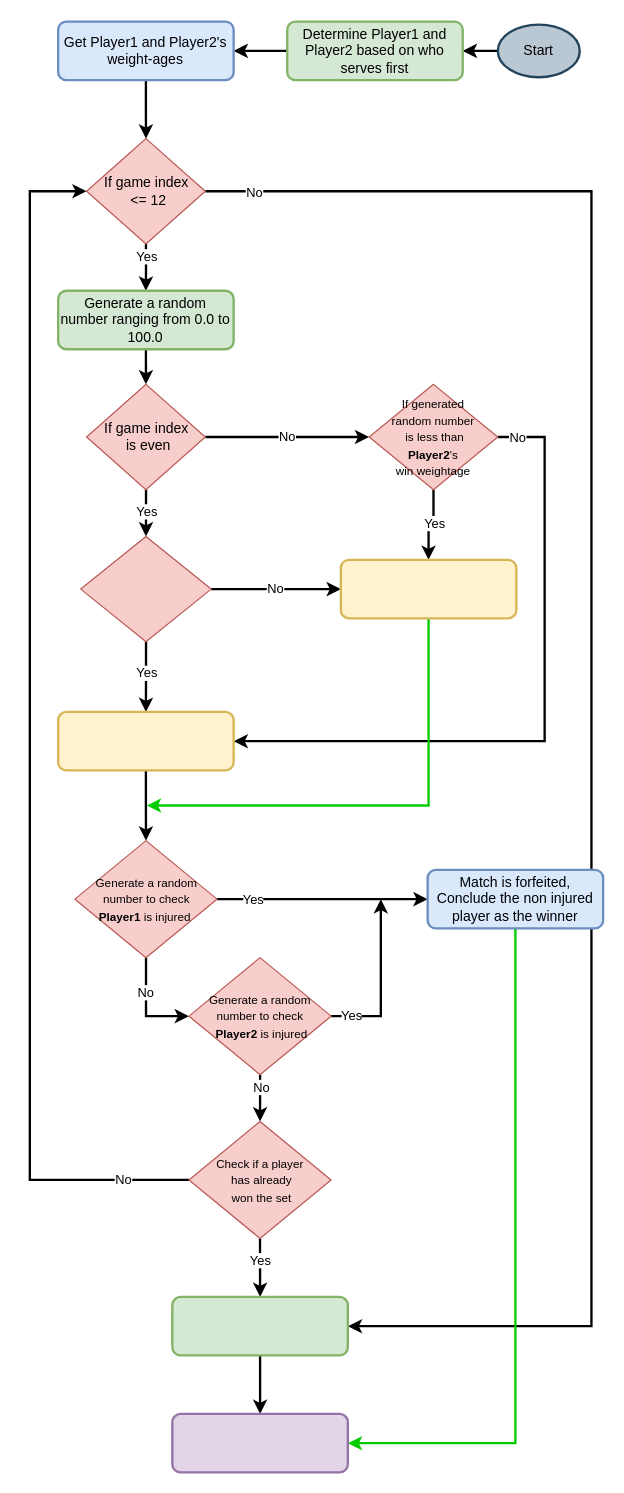
Some shapes in this 624 by 1493 pixel diagram are drawn without their labels. Each missing label, with the centre of its shape:
"Add one game point for Player1" goes at pixel 145 740.
"Add one game point for Player2" goes at pixel 428 588.
"Assess the player's games points and confirm the winner" goes at pixel 259 1325.
"Finalize set winner or Confirm match is forfeited" goes at pixel 259 1442.
"If generated random number is less than Player1 's win weightage" goes at pixel 145 588.
